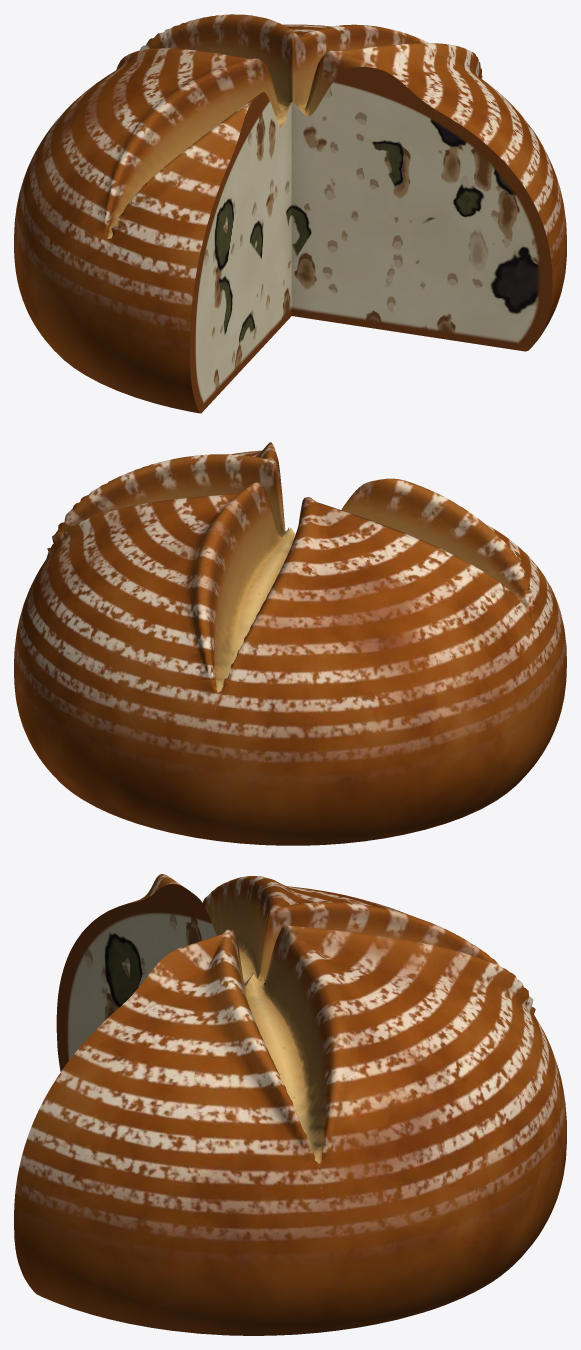
The model's file is campagne--olive-flesh.glb.
3 views of the same model, one above another, from view 1: azimuth 30°, elevation 25°; view 2: azimuth 150°, elevation 25°; view 3: azimuth 270°, elevation 25° (orthographic). The views are drawn at different scales.
Visible parts, largest first — view 1: campagne_olive-flesh; view 2: campagne_olive-flesh; view 3: campagne_olive-flesh.
Boxes of the visible parts, bbox=[...] form: campagne_olive-flesh: bbox=[14, 14, 566, 413]; campagne_olive-flesh: bbox=[14, 442, 566, 845]; campagne_olive-flesh: bbox=[14, 874, 566, 1335].
Bounding box in the file's own units: 0.9987 × 0.5303 × 0.8783.
Materials: 1 (1 with a texture image).
